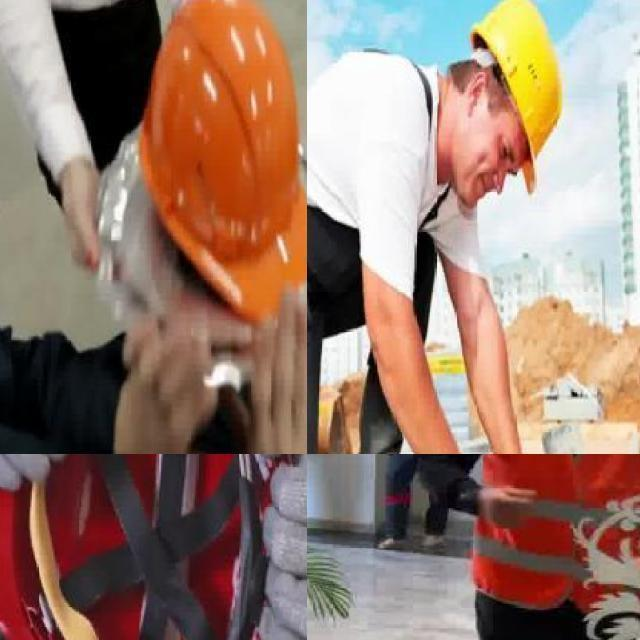apron: (254, 454, 307, 640)
